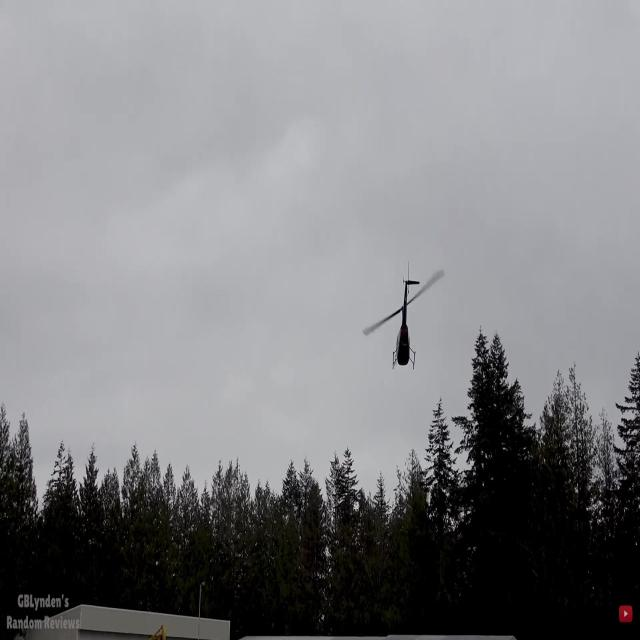CIV_HELO: (392, 260, 416, 373)
